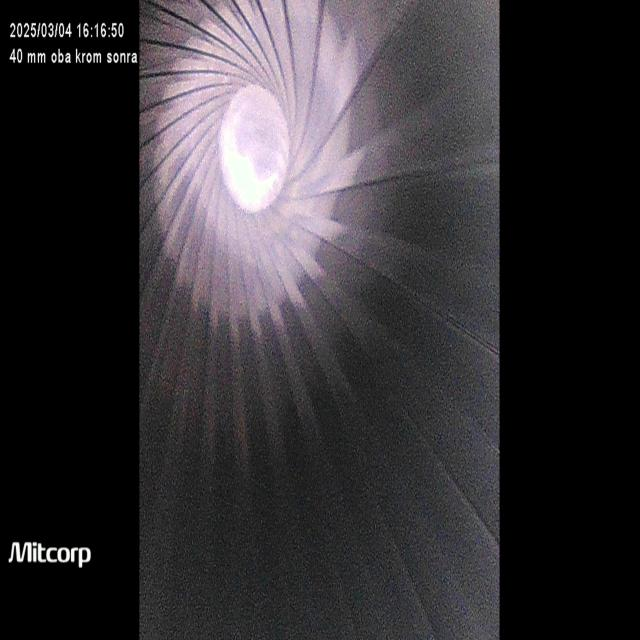hata_4.1: (382, 256, 458, 366)
